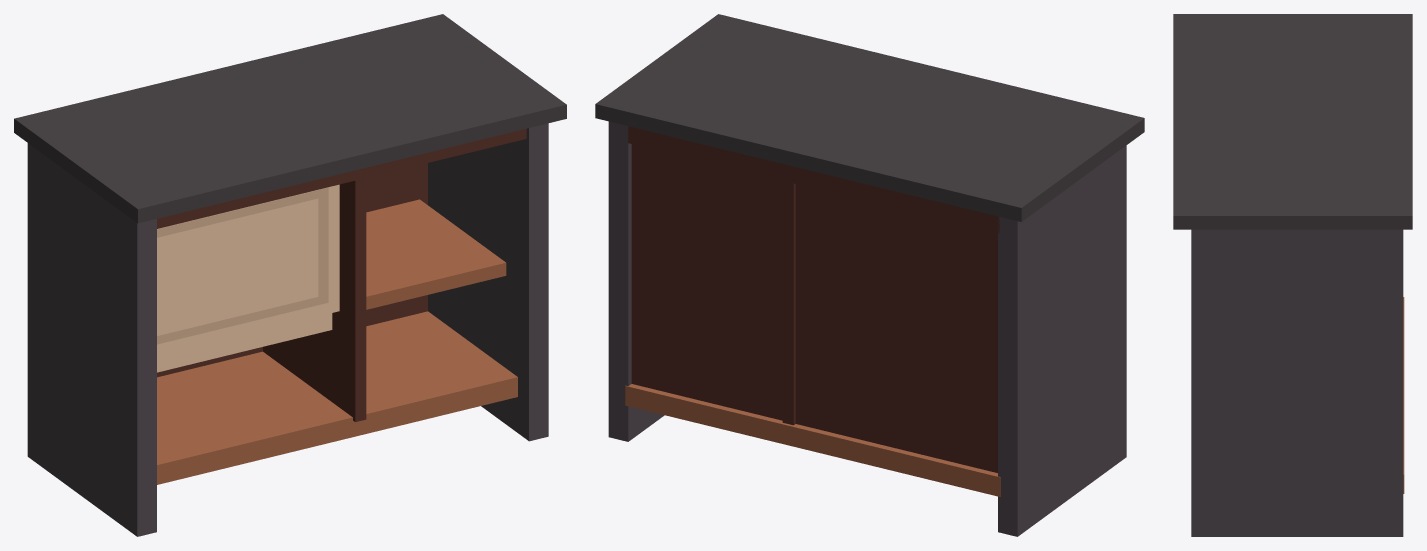
3 views of the same model, side by side, from view 1: azimuth 30°, elevation 25°; view 2: azimuth 150°, elevation 25°; view 3: azimuth 270°, elevation 25° (orthographic). The views are drawn at different scales.
Parts seen in each view (by area): view 1: countertop, service-frame-left, open-shelf-low, service-frame-right, Mesh_kitchenBar, open-shelf-middle, middle-upright, Mesh_kitchenBar_2, service-apron, warm-back; view 2: warm-back, countertop, service-frame-left, open-shelf-low, service-frame-right, service-apron, middle-upright; view 3: service-frame-right, countertop, open-shelf-low.
Boxes of the visible parts, bbox=[...] form: countertop: bbox=[14, 14, 566, 223]; service-frame-left: bbox=[27, 143, 156, 536]; open-shelf-low: bbox=[157, 311, 517, 484]; service-frame-right: bbox=[428, 123, 548, 441]; Mesh_kitchenBar: bbox=[157, 184, 339, 372]; open-shelf-middle: bbox=[366, 199, 506, 309]; middle-upright: bbox=[263, 178, 366, 421]; Mesh_kitchenBar_2: bbox=[157, 187, 328, 344]; service-apron: bbox=[157, 128, 526, 228]; warm-back: bbox=[157, 163, 427, 377]; warm-back: bbox=[631, 144, 997, 472]; countertop: bbox=[595, 14, 1144, 221]; service-frame-left: bbox=[998, 145, 1126, 536]; open-shelf-low: bbox=[625, 384, 1000, 496]; service-frame-right: bbox=[608, 121, 664, 441]; service-apron: bbox=[628, 126, 999, 233]; middle-upright: bbox=[782, 181, 795, 425]; service-frame-right: bbox=[1191, 229, 1403, 536]; countertop: bbox=[1173, 14, 1412, 229]; open-shelf-low: bbox=[1403, 297, 1404, 493].
Bounding box in the file's own units: 1.2 × 0.9 × 0.6.
